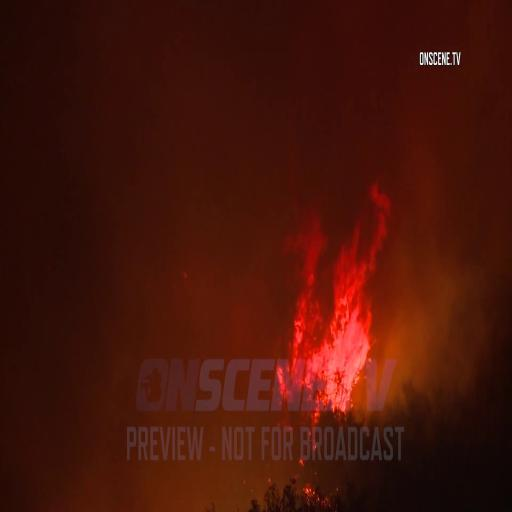fire: (294, 208, 382, 400)
